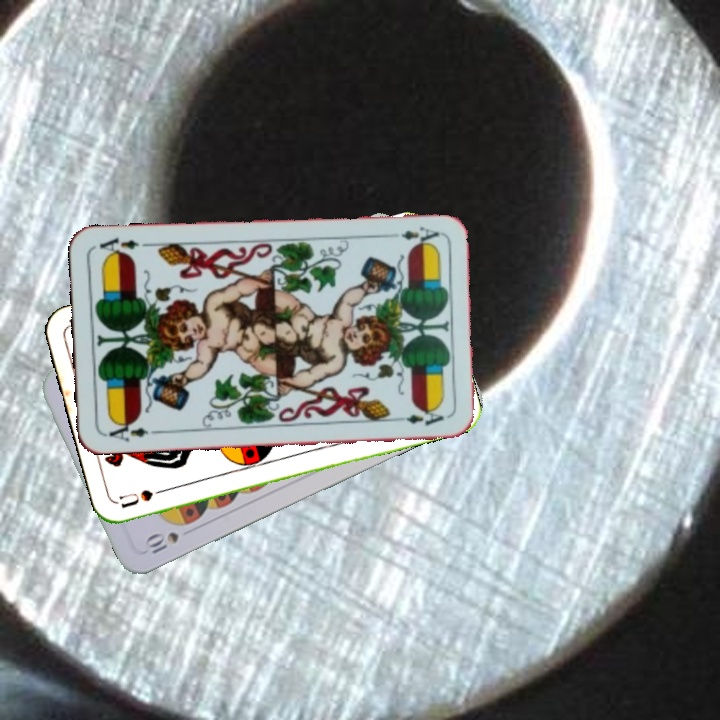EA: (105, 417, 160, 444), (383, 222, 441, 246)
S10: (141, 527, 182, 557)
SU: (116, 482, 175, 511)
